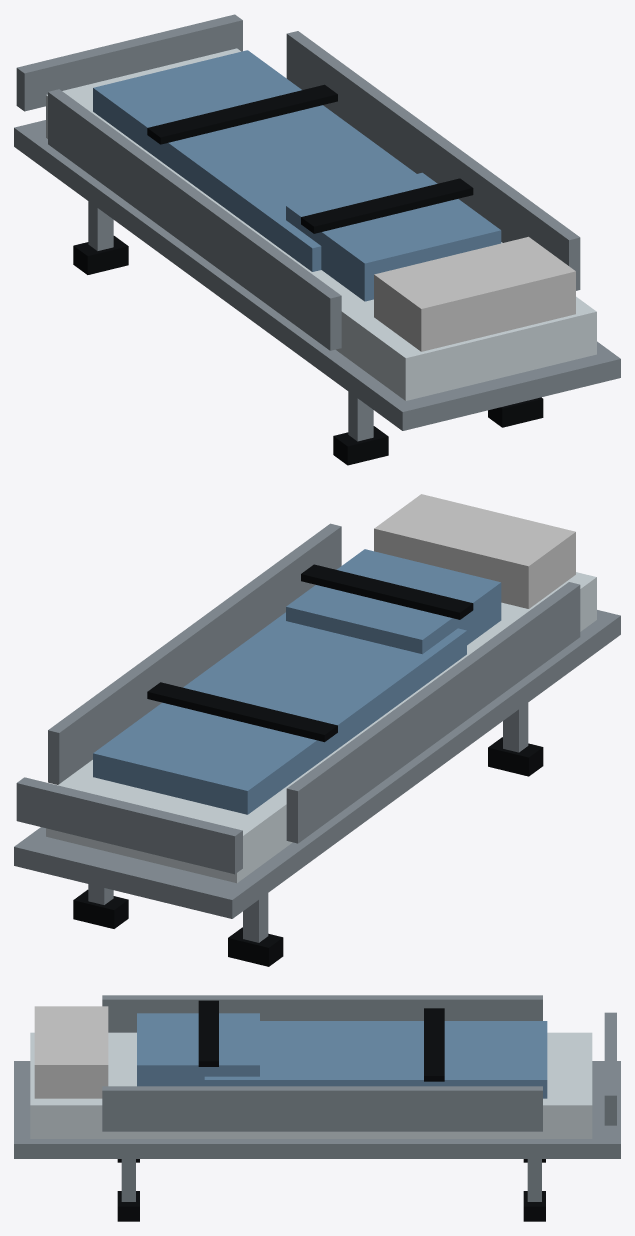
Rendered from ambulance_patient_stretcher.obj.
3 views of the same model, one above another, from view 1: azimuth 30°, elevation 25°; view 2: azimuth 150°, elevation 25°; view 3: azimuth 270°, elevation 25° (orthographic). The views are drawn at different scales.
Visible parts, largest first — view 1: patient_blanket_lower_top, left_side_rail_low_left, right_side_rail_low_left, stretcher_mattress_base_back, patient_blanket_chest_top, stretcher_metal_frame_left, head_pillow_top, head_pillow_back, stretcher_metal_frame_top, foot_bar_back, patient_blanket_lower_left, stretcher_mattress_base_top (+18 smaller); view 2: patient_blanket_lower_top, left_side_rail_low_left, right_side_rail_low_left, foot_bar_front, patient_blanket_chest_top, stretcher_metal_frame_top, stretcher_metal_frame_left, head_pillow_top, stretcher_mattress_base_top, patient_blanket_lower_left, stretcher_metal_frame_front, head_pillow_front (+16 smaller); view 3: right_side_rail_low_right, patient_blanket_lower_top, stretcher_metal_frame_right, left_side_rail_low_right, stretcher_mattress_base_right, stretcher_mattress_base_top, stretcher_metal_frame_top, patient_blanket_chest_top, head_pillow_top, head_pillow_right, patient_blanket_lower_right, left_side_rail_low_top (+10 smaller).
Boxes of the visible parts, box(x1,y1,x2,y2) form: patient_blanket_lower_top: box(93, 50, 416, 248); left_side_rail_low_left: box(48, 92, 330, 350); right_side_rail_low_left: box(286, 34, 568, 265); stretcher_mattress_base_back: box(405, 311, 596, 400); patient_blanket_chest_top: box(286, 172, 500, 263); stretcher_metal_frame_left: box(14, 128, 402, 430); head_pillow_top: box(374, 236, 575, 308); head_pillow_back: box(421, 271, 575, 351); stretcher_metal_frame_top: box(14, 120, 620, 411); foot_bar_back: box(24, 20, 242, 111); patient_blanket_lower_left: box(93, 88, 312, 271); stretcher_mattress_base_top: box(46, 48, 596, 357); patient_blanket_lower_top: box(93, 612, 466, 790); left_side_rail_low_left: box(298, 585, 580, 843); right_side_rail_low_left: box(59, 526, 341, 783); foot_bar_front: box(16, 783, 234, 874); patient_blanket_chest_top: box(286, 549, 500, 639); stretcher_metal_frame_top: box(14, 610, 620, 899); stretcher_metal_frame_left: box(232, 616, 620, 918); head_pillow_top: box(374, 494, 575, 566); stretcher_mattress_base_top: box(58, 572, 596, 835); patient_blanket_lower_left: box(247, 631, 466, 814); stretcher_metal_frame_front: box(14, 847, 232, 918); head_pillow_front: box(374, 528, 528, 608); right_side_rail_low_right: box(102, 1090, 542, 1131); patient_blanket_lower_top: box(204, 1021, 547, 1079); stretcher_metal_frame_right: box(14, 1144, 620, 1158); left_side_rail_low_right: box(102, 999, 542, 1032); stretcher_mattress_base_right: box(30, 1105, 592, 1138); stretcher_mattress_base_top: box(30, 1032, 592, 1105); stretcher_metal_frame_top: box(14, 1061, 620, 1143); patient_blanket_chest_top: box(137, 1013, 259, 1065); head_pillow_top: box(34, 1006, 108, 1064); head_pillow_right: box(34, 1065, 108, 1098); patient_blanket_lower_right: box(204, 1080, 547, 1098); left_side_rail_low_top: box(102, 995, 542, 999).
Size of the model in its own units: 1.1 by 0.825 by 2.96.
